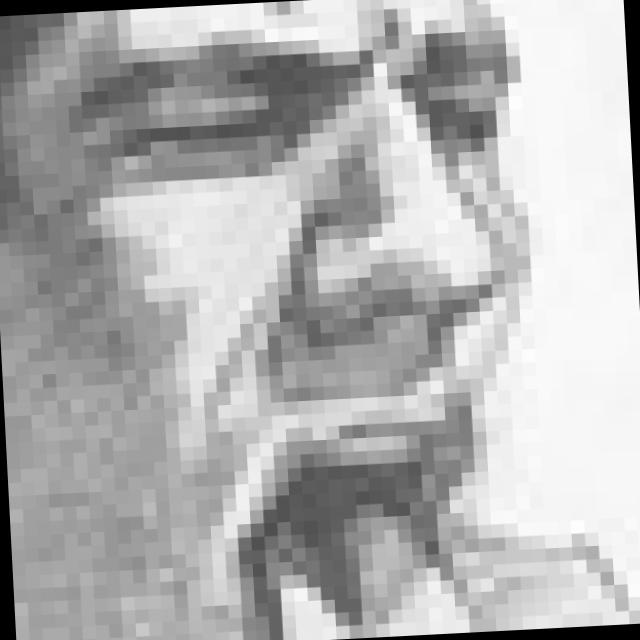disgust: (64, 19, 537, 640)
